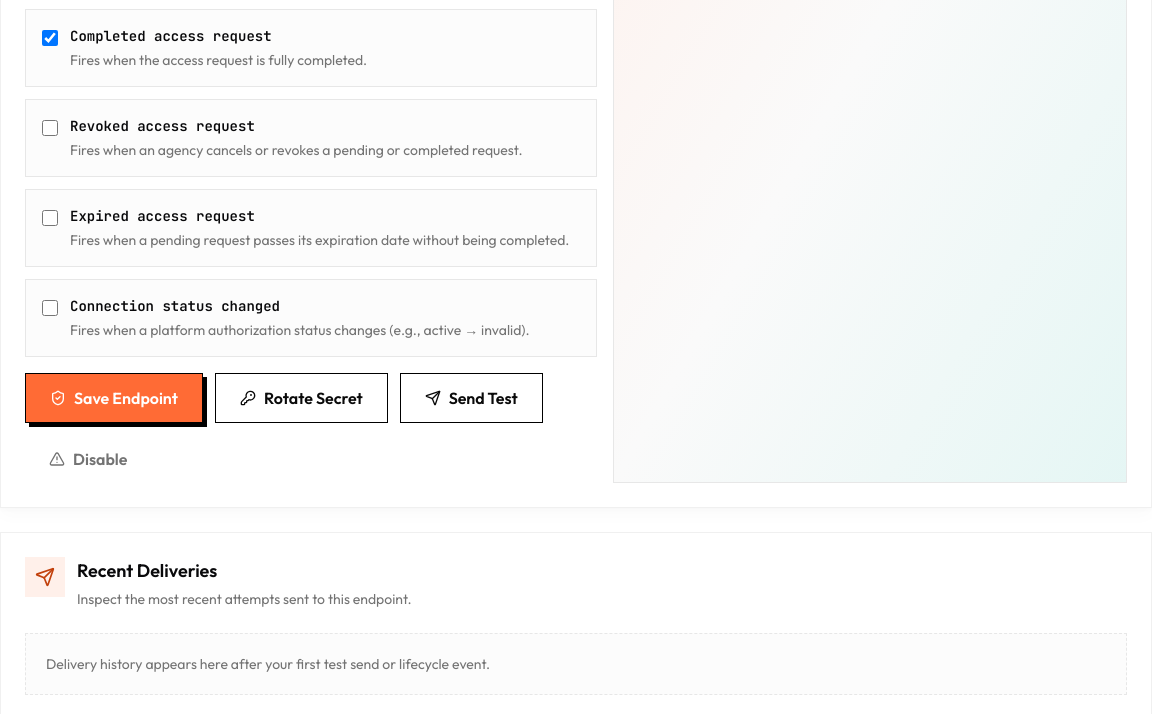
Test: WebhookSettingsTab › disables an active endpoint and shows the disabled state
(page scrolled)
What coordinates should you click on to do the following:
click the button "Disable"
I would click on:
 (88, 459)
Its box is [25,435,152,483].
(page scrolled)
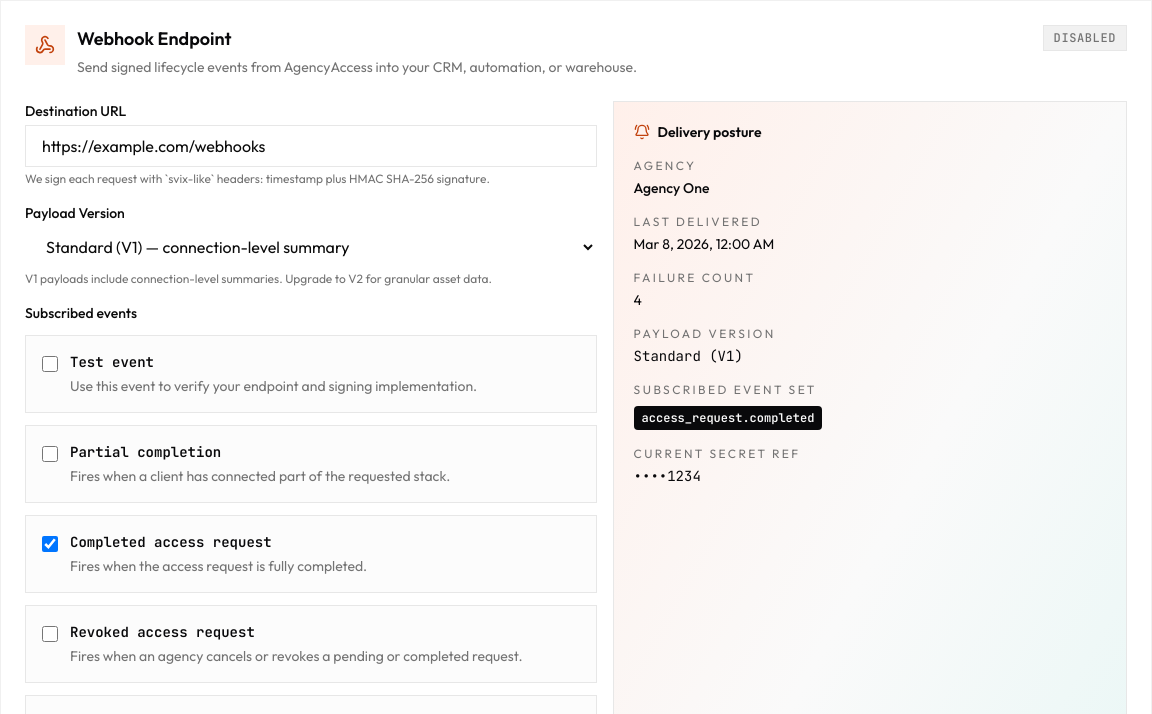
Now the text "Disabled" is shown, box [1043,25,1127,51]
